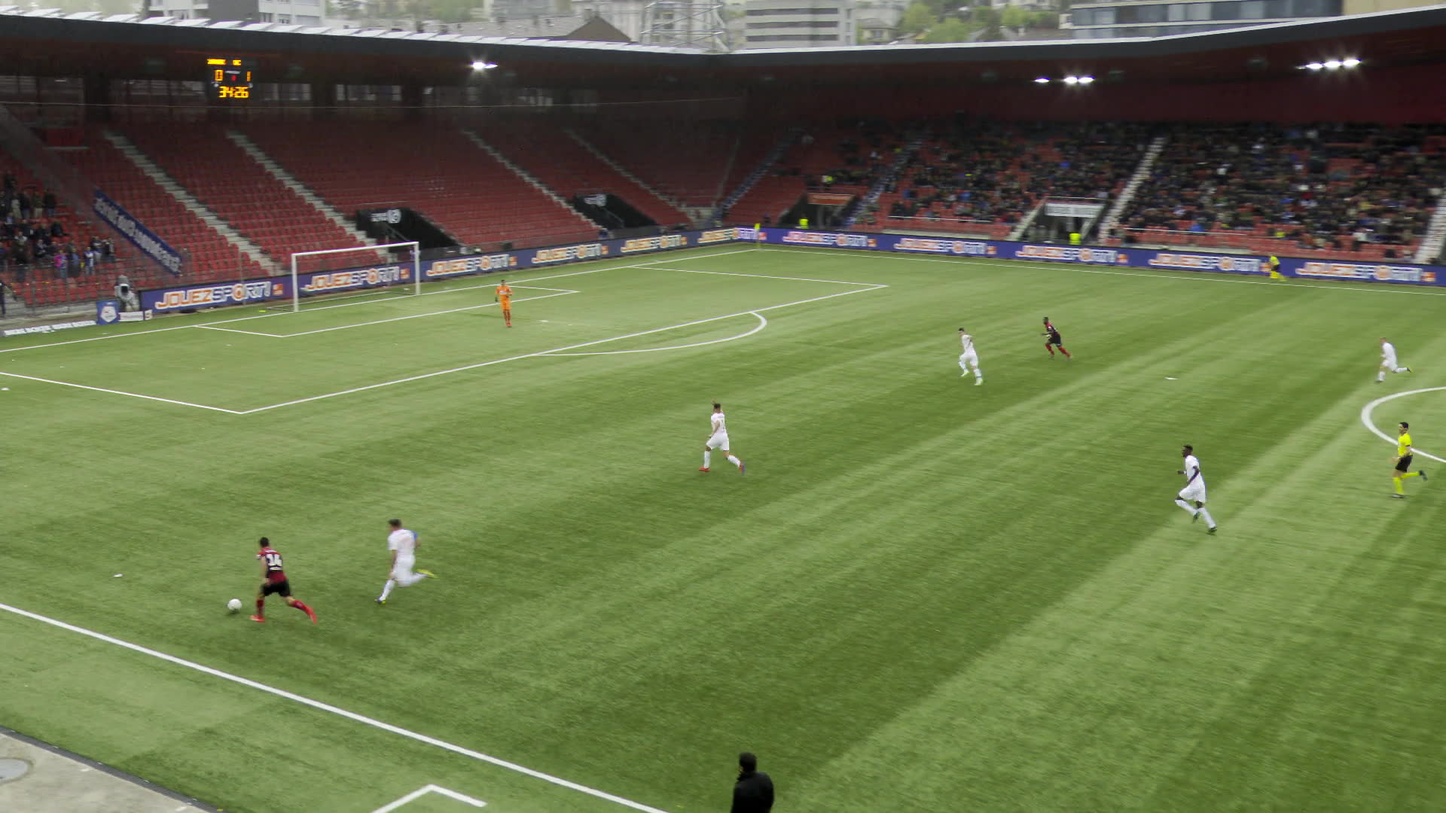ball: (230, 597, 243, 611)
player: (249, 536, 317, 623), (374, 518, 439, 604), (1174, 443, 1217, 534), (698, 396, 745, 474), (1373, 336, 1412, 383), (956, 327, 983, 385), (1041, 316, 1072, 361), (494, 279, 514, 327)
referee: (1389, 422, 1428, 498), (1267, 251, 1286, 282)
